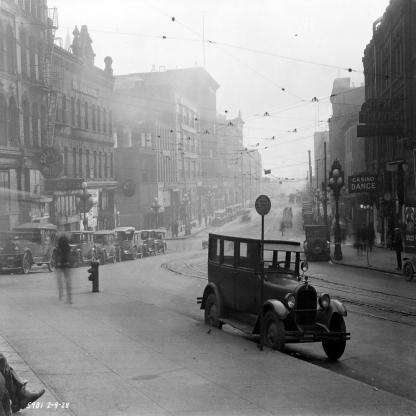Car: (199, 233, 352, 362), (1, 223, 168, 276), (290, 193, 331, 261), (212, 203, 245, 228), (404, 258, 416, 283), (251, 200, 256, 209), (290, 196, 295, 203)
